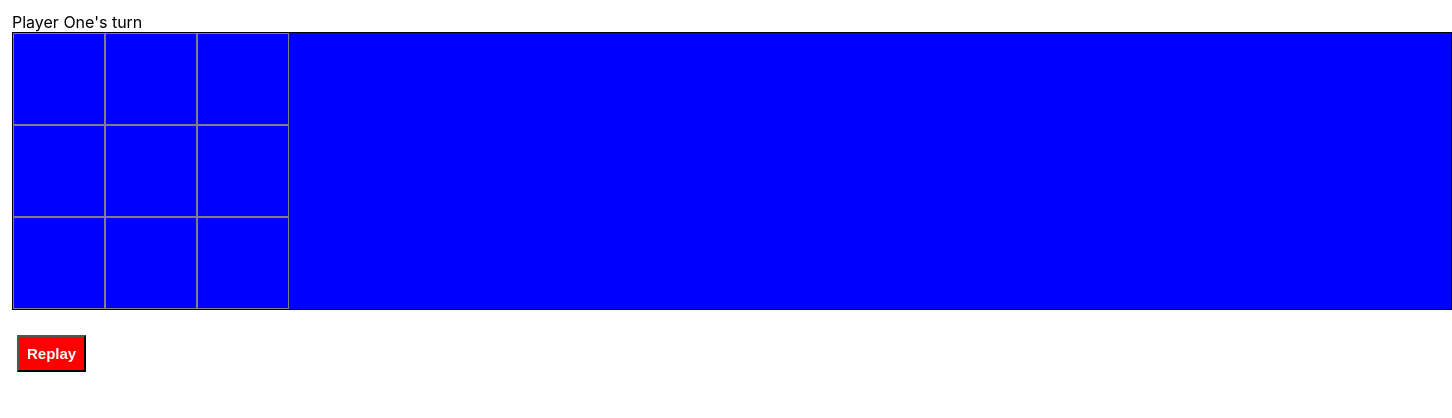
Test: ticTacToe component › Should display winner name
Click the 1st cell: {"x": 59, "y": 79} [13,33,105,125]
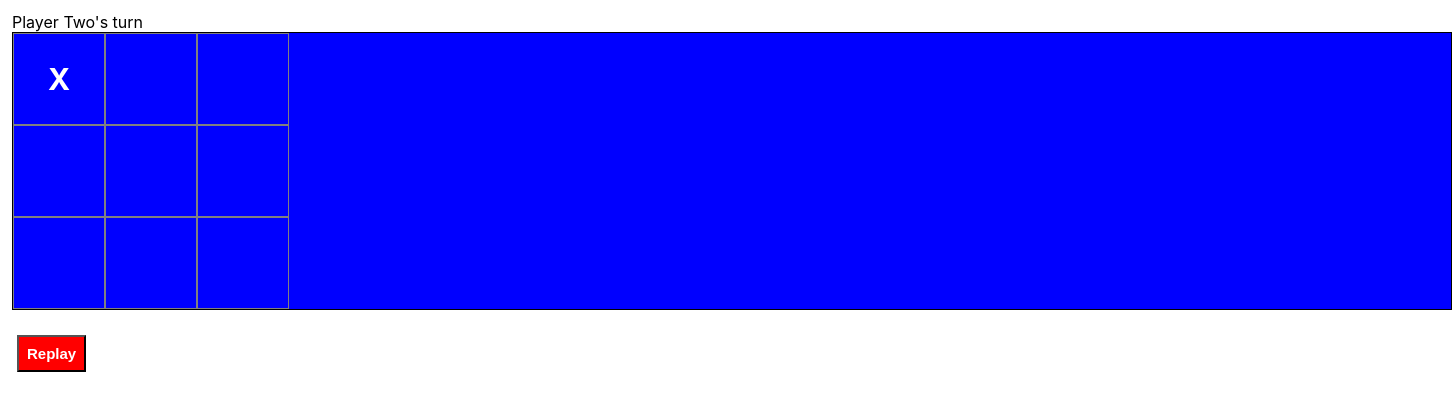
Click the 4th cell: {"x": 59, "y": 171} [13,125,105,217]
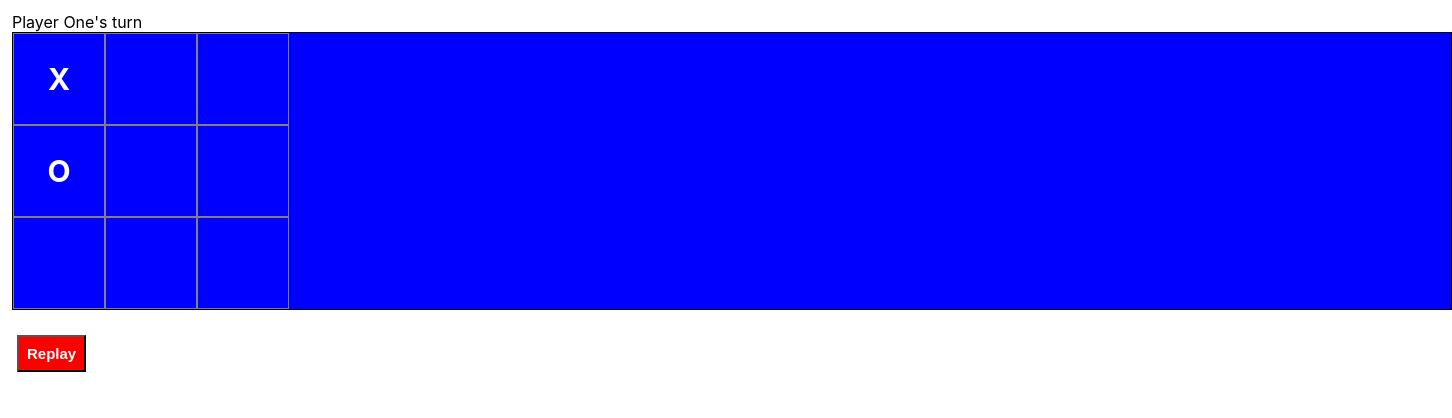
Click the 2nd cell: {"x": 151, "y": 79} [105,33,197,125]
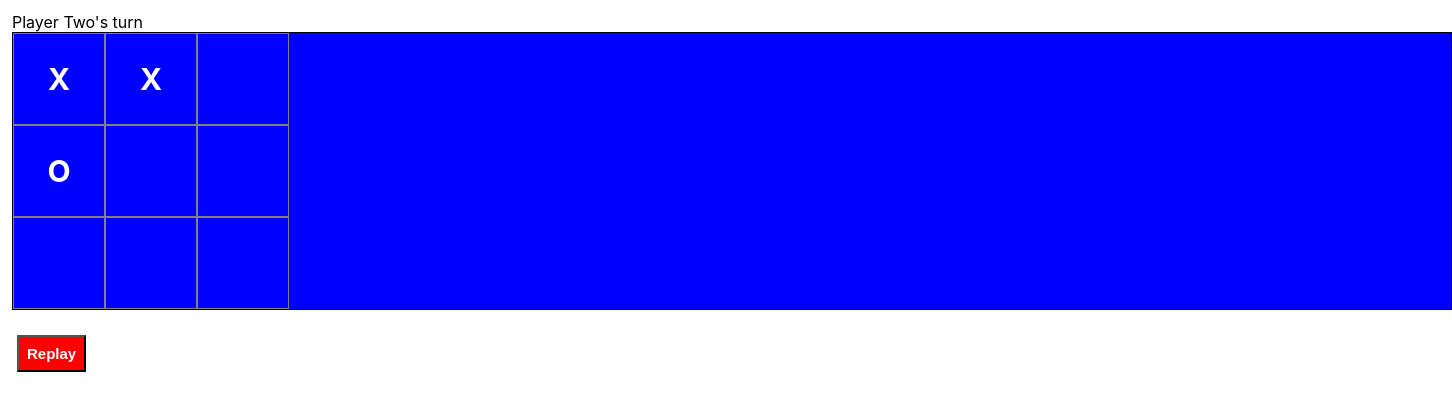
Click the 5th cell: {"x": 151, "y": 171} [105,125,197,217]
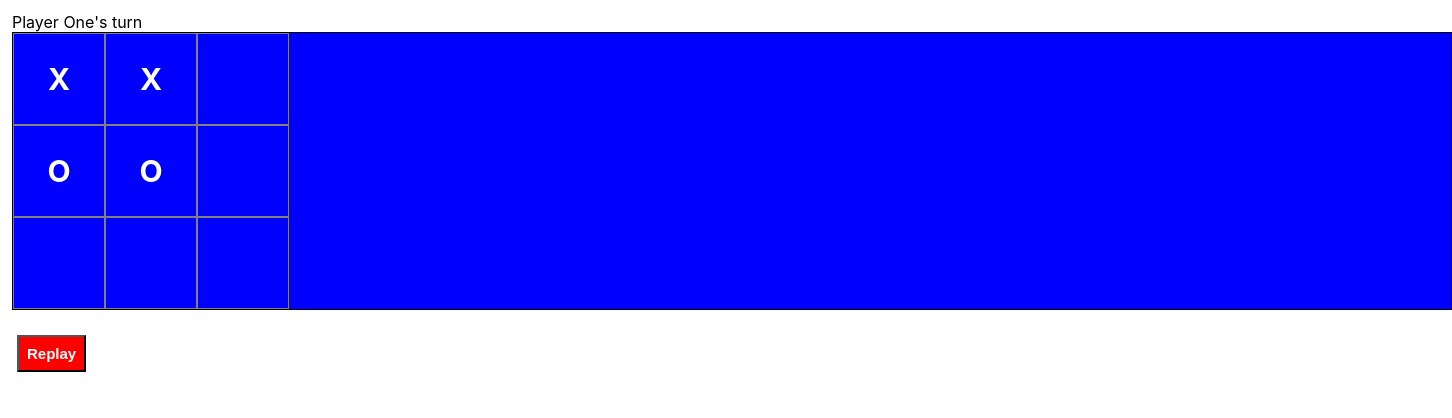
Click the 3rd cell: {"x": 243, "y": 79} [197,33,289,125]
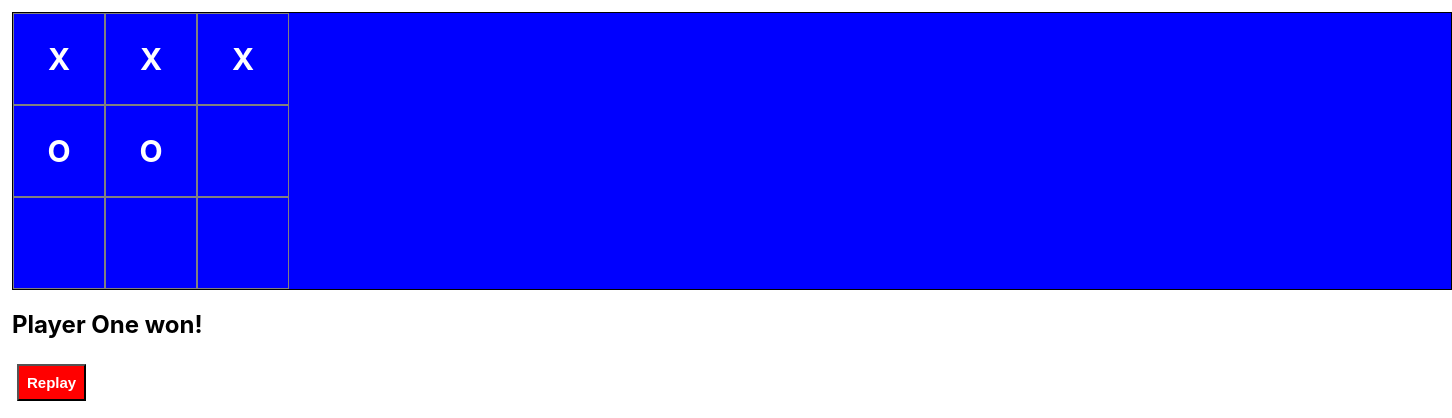
Expected: the heading with test id "winner" reads "Player One won!", [12,310,203,339]
